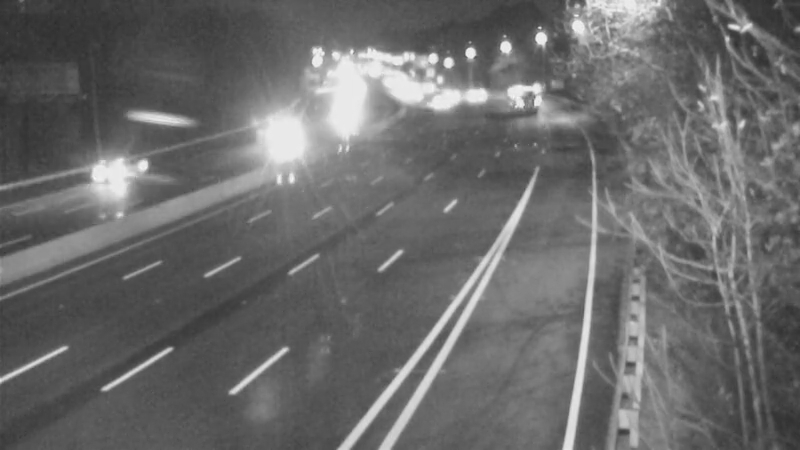vehicle: (75, 128, 155, 208), (453, 61, 503, 111), (435, 69, 485, 119), (492, 65, 542, 115), (253, 115, 303, 165)
